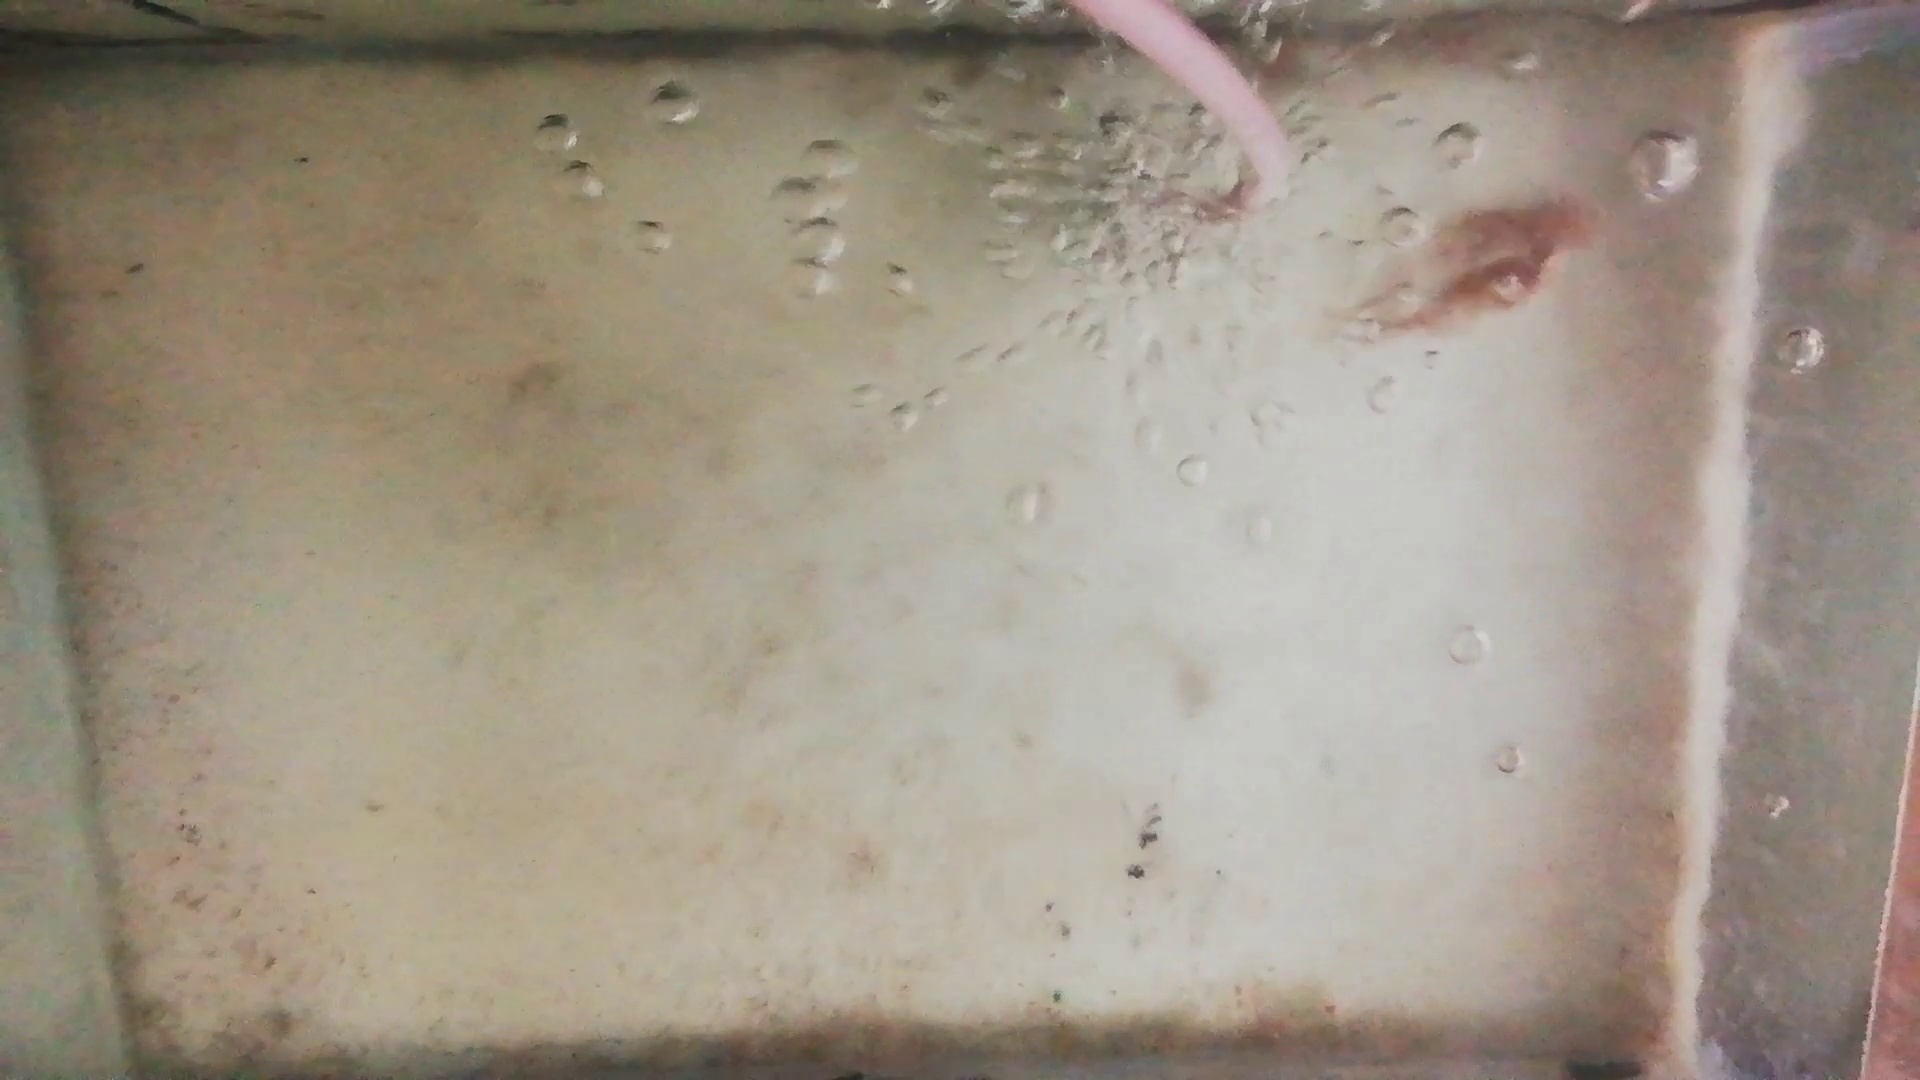fish: (1378, 251, 1552, 334), (1427, 198, 1601, 244)
